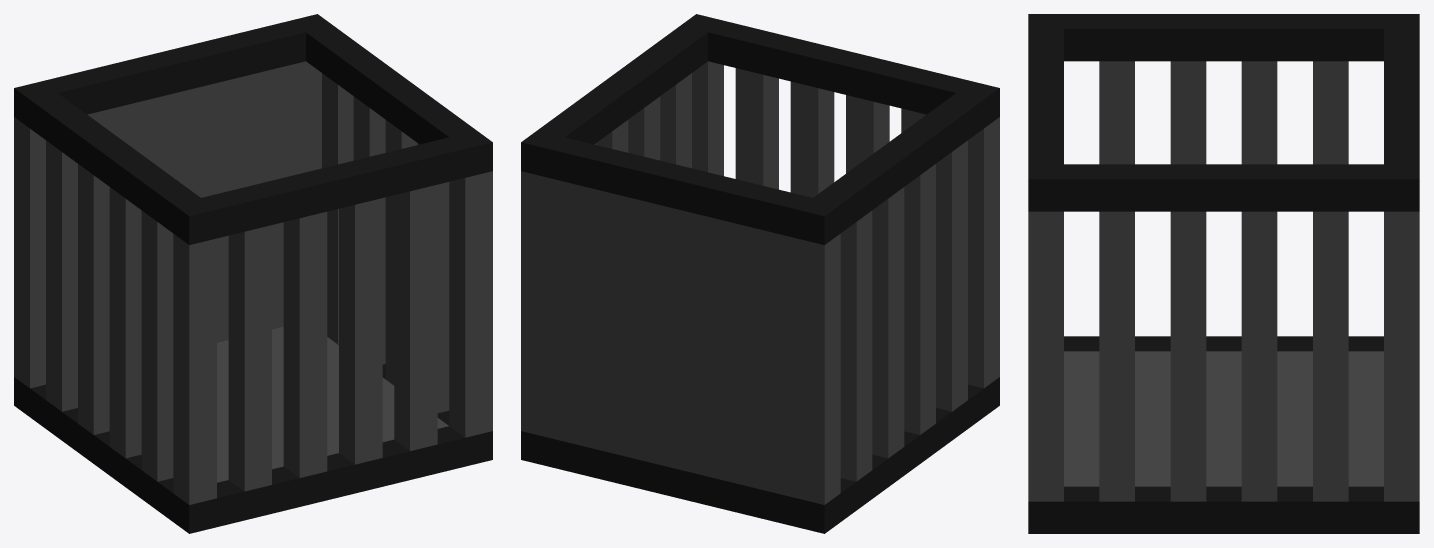
File: prison.obj
The picture shows the model from 3 angles, left to right: view 1: azimuth 30°, elevation 25°; view 2: azimuth 150°, elevation 25°; view 3: azimuth 270°, elevation 25°; orthographic projection. The views are drawn at different scales.
Bounding box in the file's own units: 11 × 11 × 11.
Materials: 1 (1 with a texture image).
